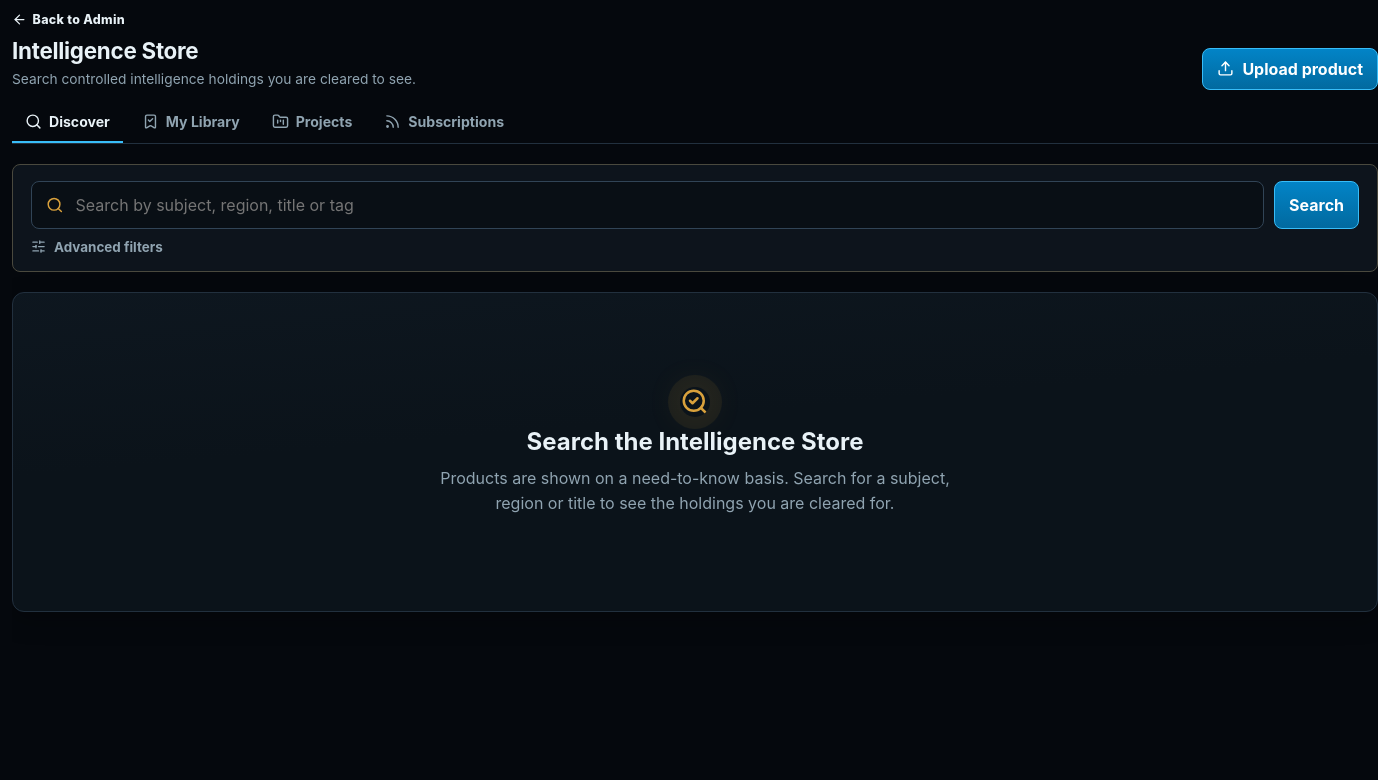
Test: hints when a search is submitted with no criteria
Expected: the heading "Search the Intelligence Store" is shown, top-left (526, 427), bottom-right (863, 456)
Click the button "Search".
click(1316, 205)  # box top-left (1274, 181), bottom-right (1359, 229)
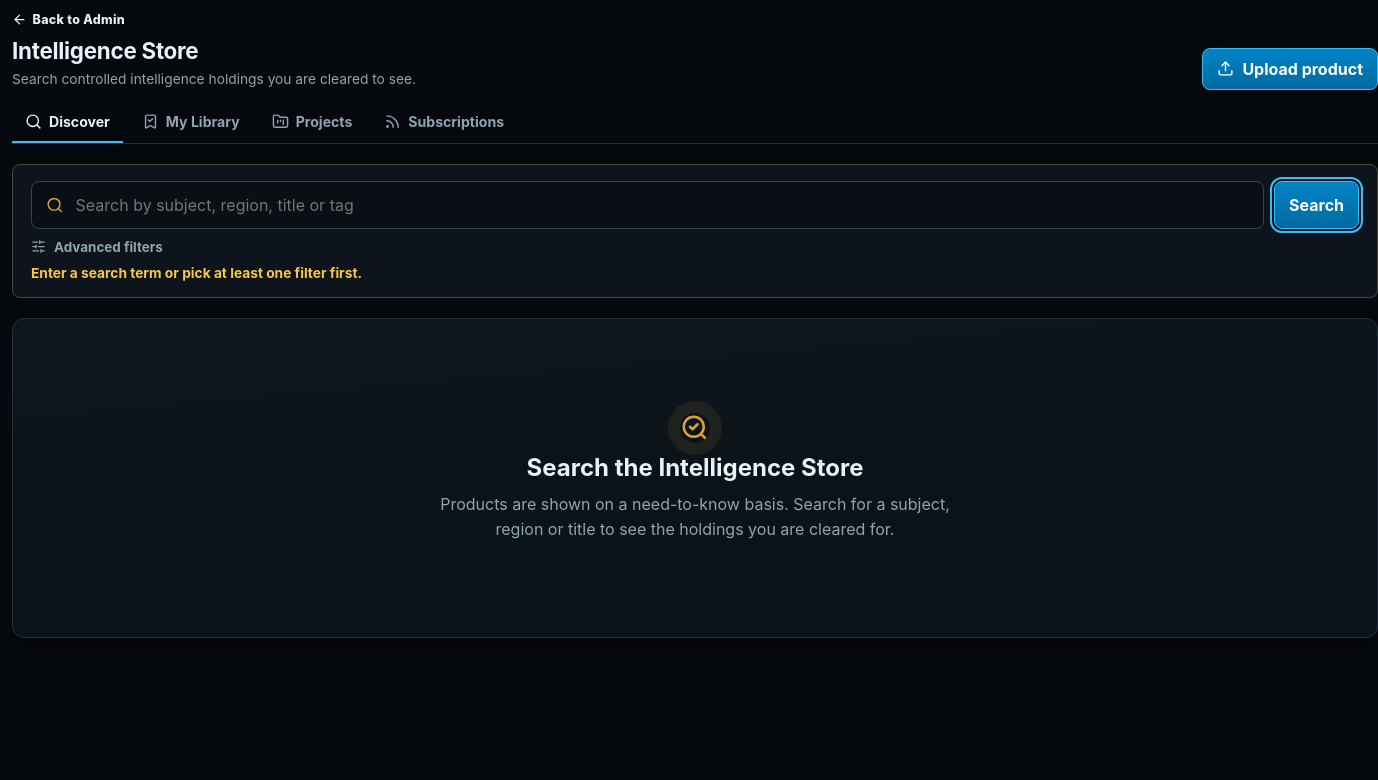
Now the text "Enter a search term or pick at least one filter first." is shown, box top-left (31, 265), bottom-right (362, 281)
